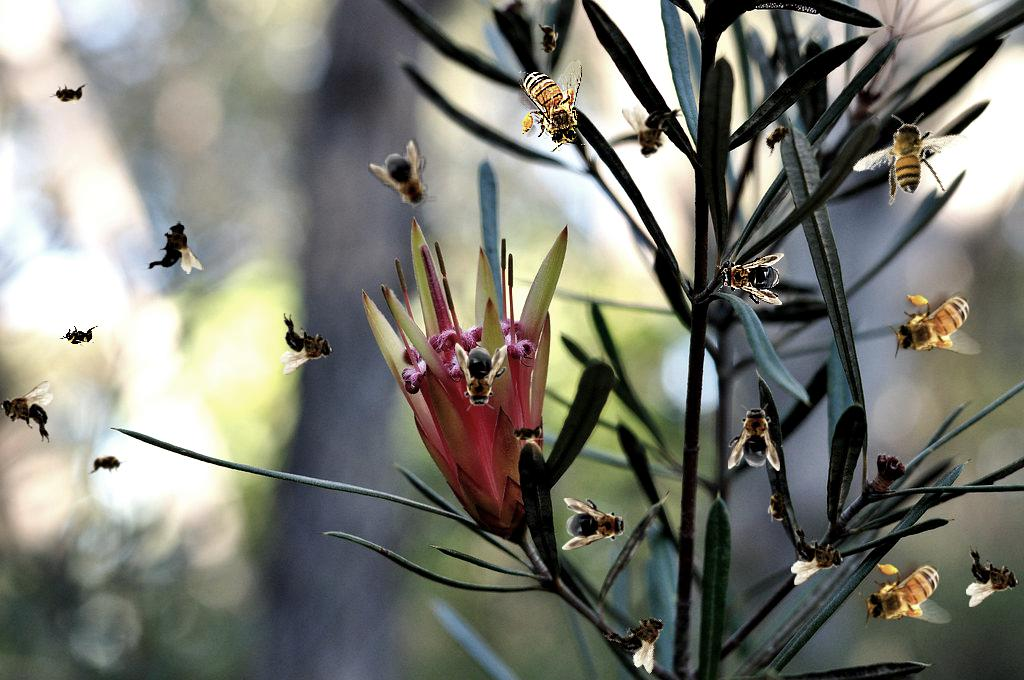Bee: (841, 85, 988, 229), (366, 136, 448, 222), (599, 595, 682, 677), (859, 560, 952, 628), (889, 291, 982, 359), (518, 59, 586, 152), (716, 253, 784, 305), (562, 498, 630, 550), (455, 343, 507, 411), (728, 403, 780, 471), (966, 545, 1019, 607), (791, 523, 844, 585), (280, 313, 333, 375), (142, 221, 204, 274), (0, 381, 53, 443), (622, 105, 684, 158), (755, 116, 801, 158), (49, 83, 89, 105), (59, 325, 99, 347), (507, 422, 547, 444), (87, 453, 127, 475), (537, 20, 559, 60), (767, 486, 789, 526)
